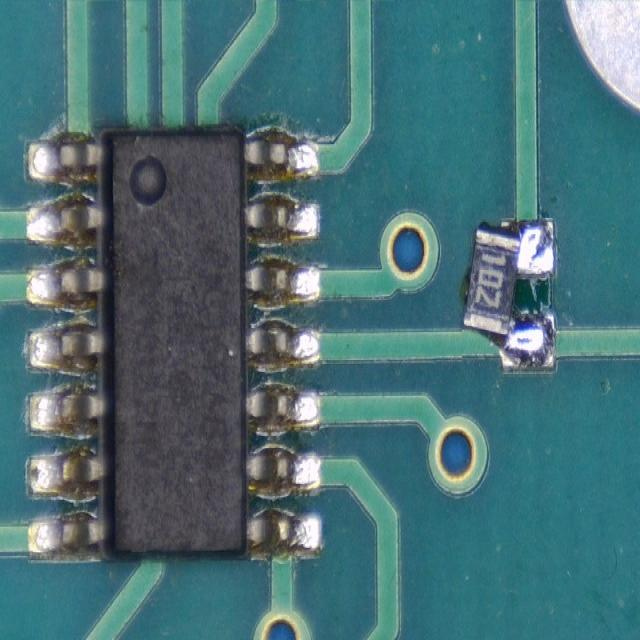Incorrect_installation: (462, 218, 556, 375)
